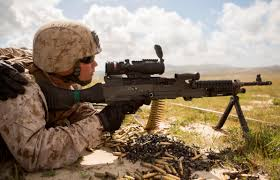gun: (37, 43, 272, 134)
